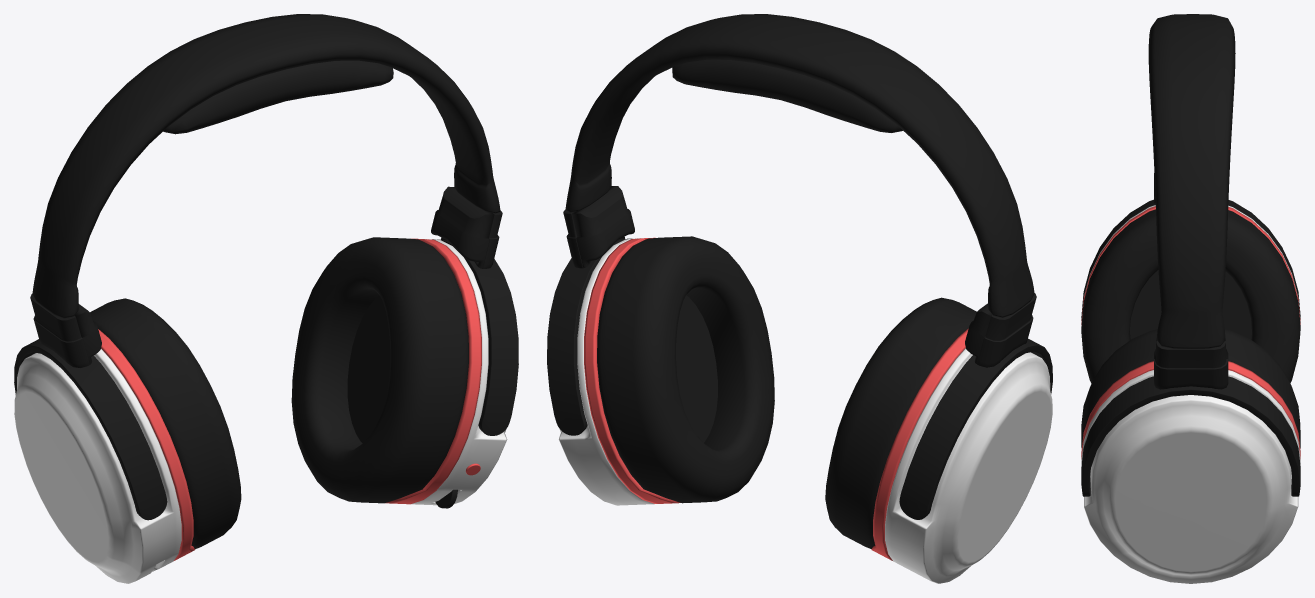
The model's file is SM_Headset.fbx.
3 views of the same model, side by side, from view 1: azimuth 30°, elevation 25°; view 2: azimuth 150°, elevation 25°; view 3: azimuth 270°, elevation 25° (orthographic). The views are drawn at different scales.
Parts seen in each view (by area): view 1: SM_Headset; view 2: SM_Headset; view 3: SM_Headset.
Part boxes in pixels (box(x1,y1,x2,y2)): SM_Headset: box(14, 14, 518, 583); SM_Headset: box(547, 14, 1052, 583); SM_Headset: box(1081, 14, 1300, 583).
Size of the model in its own units: 19.33 by 20.55 by 8.69.
